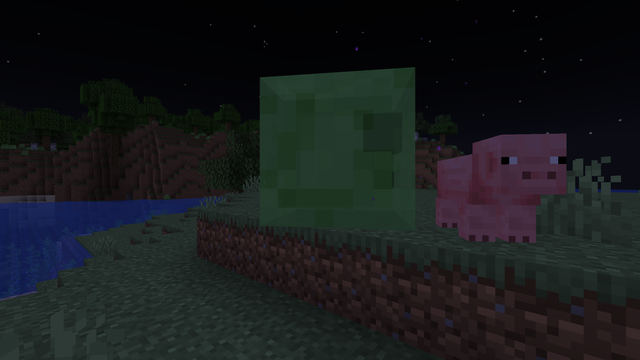cochons: (427, 149, 529, 246)
slimes: (250, 47, 424, 236)
